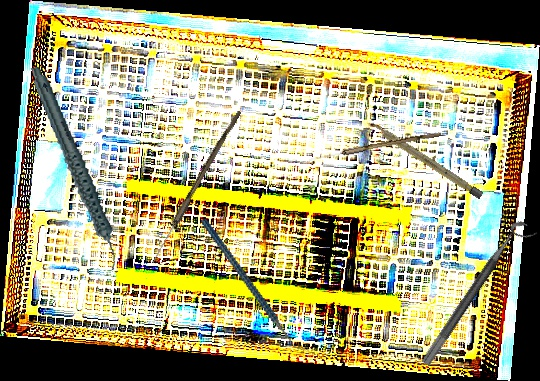Chopper: (201, 201, 309, 370)
Fixation Ring: (420, 217, 538, 375)
Handpiece: (30, 59, 120, 278)
Scalpel Handle: (368, 120, 484, 200)
Surgical Spoon: (149, 108, 242, 266), (308, 129, 442, 164)
